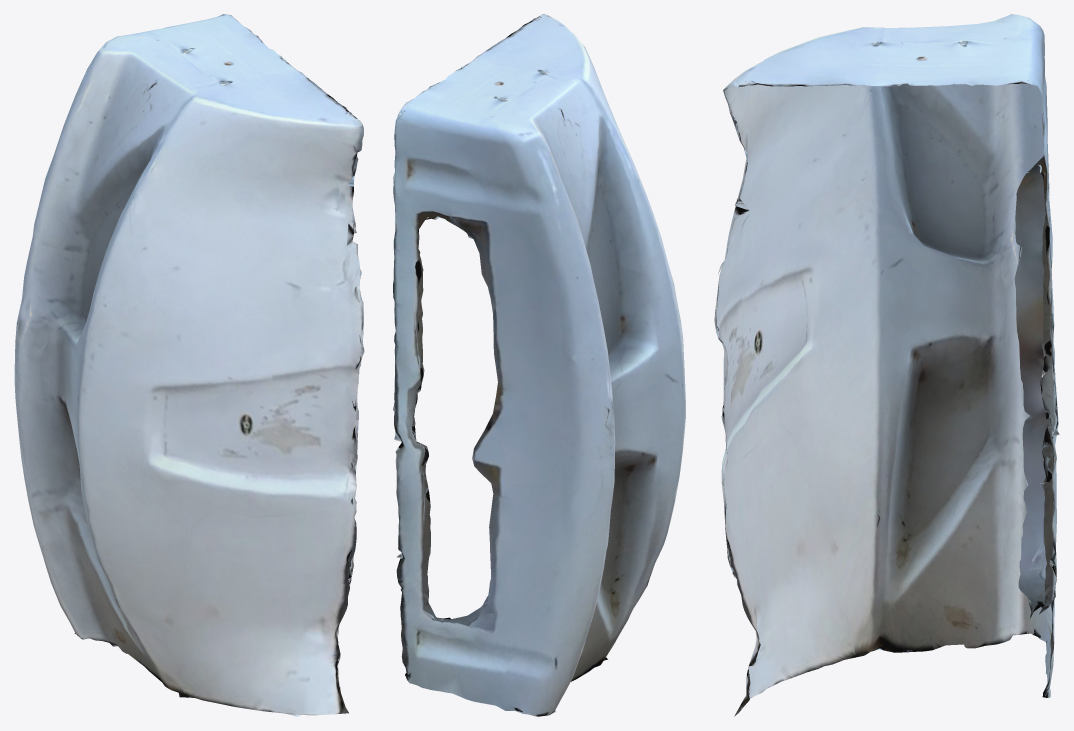
Rendered from Badform.glb.
The picture shows the model from 3 angles, left to right: view 1: azimuth 30°, elevation 25°; view 2: azimuth 150°, elevation 25°; view 3: azimuth 270°, elevation 25°; orthographic projection. The views are drawn at different scales.
Visible parts, largest first — view 1: Volume_Mesher; view 2: Volume_Mesher; view 3: Volume_Mesher.
Boxes of the visible parts, x1,y1,x2,y2 form: Volume_Mesher: [14, 14, 364, 716]; Volume_Mesher: [393, 14, 685, 716]; Volume_Mesher: [714, 14, 1059, 716].
Size of the model in its own units: 35.14 by 91.02 by 44.09.
1 material, 1 textured.
